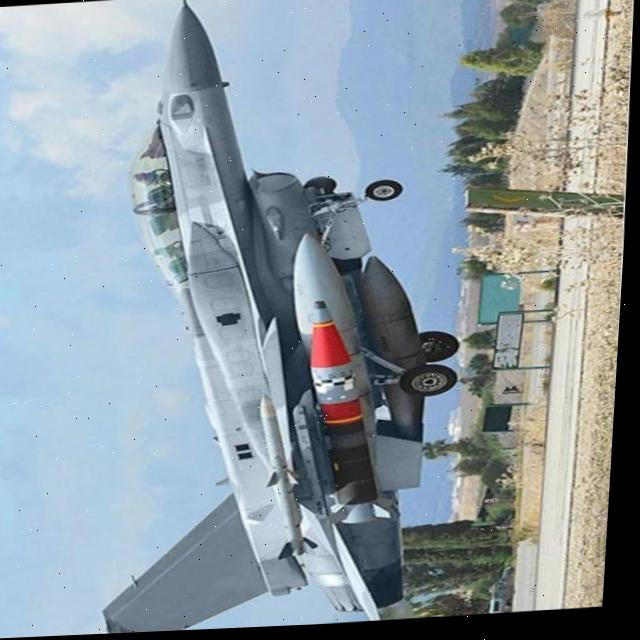missile: (298, 301, 399, 531), (353, 245, 438, 454), (288, 234, 367, 435), (259, 394, 334, 568)
